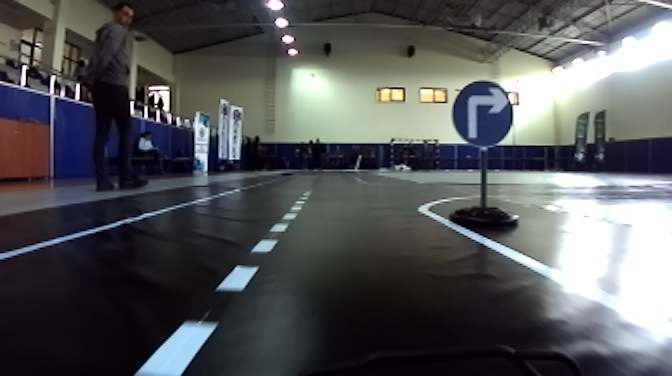saga_donus: (450, 79, 514, 148)
